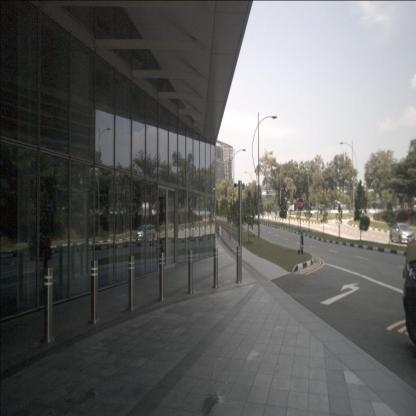human-pedestrian-adult: (228, 218, 232, 242)
vehicle-car: (390, 223, 414, 244), (135, 225, 155, 242)
vehicle-motorcycle: (28, 227, 52, 260)
